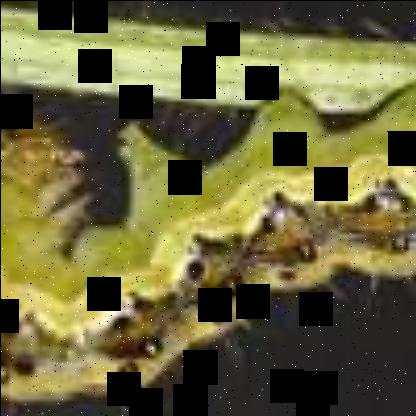oruga: (0, 83, 416, 403)
